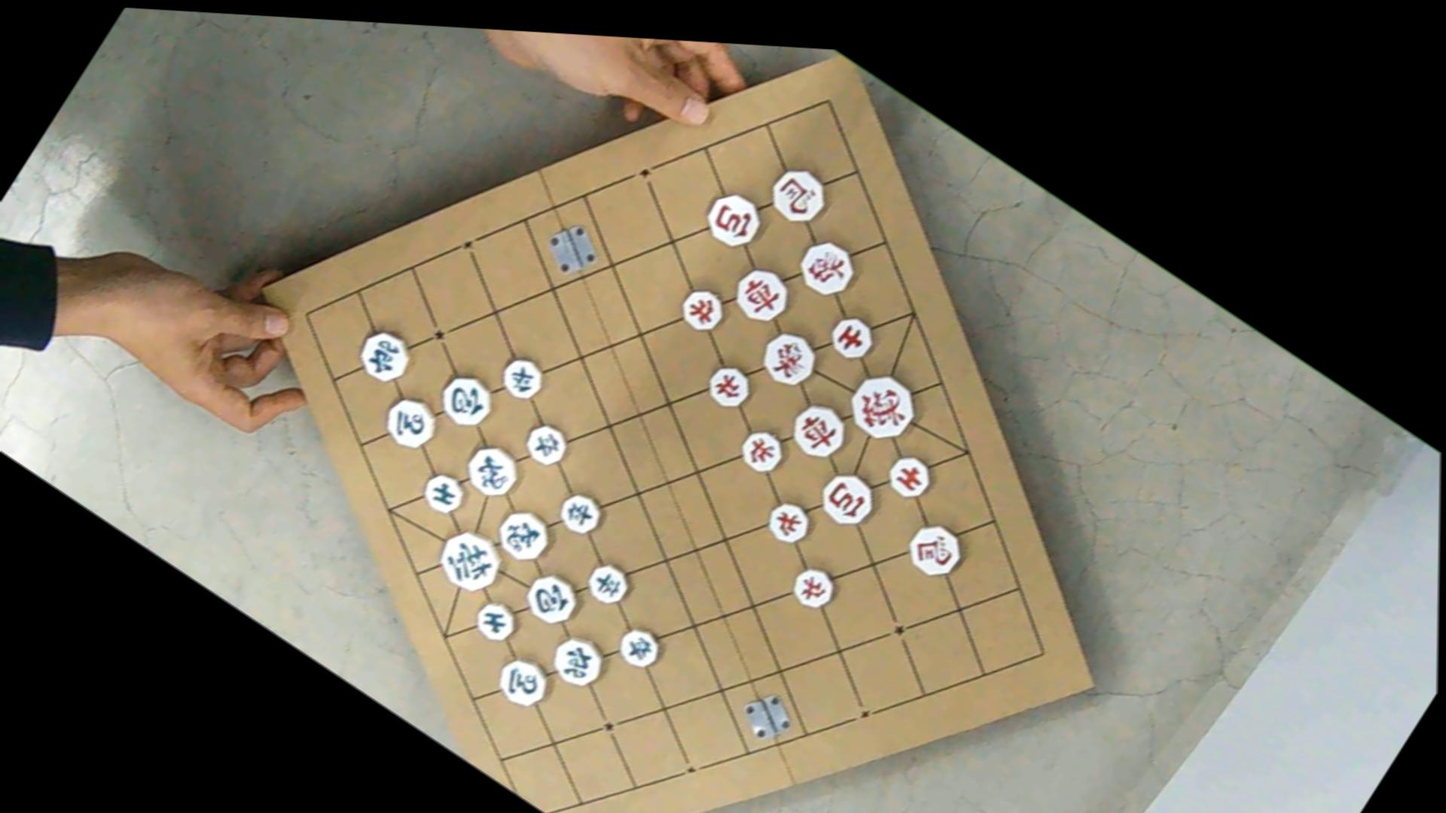cha_green: (545, 627, 612, 696), (350, 321, 417, 390)
cha_red: (783, 393, 855, 467), (725, 257, 797, 331)
jol_green: (495, 349, 549, 406), (613, 620, 667, 674), (554, 486, 607, 540), (581, 556, 634, 610), (519, 417, 572, 471)
jol_red: (674, 280, 731, 339), (701, 358, 758, 416), (760, 493, 817, 551), (734, 422, 789, 480), (786, 559, 841, 617)
ma_green: (376, 387, 444, 457), (491, 648, 556, 714)
ma_red: (761, 157, 834, 232), (899, 513, 969, 586)
po_green: (432, 365, 499, 434), (519, 565, 584, 632)
po_red: (697, 182, 768, 255), (813, 464, 882, 534)
sa_green: (416, 465, 468, 519), (468, 595, 520, 648)
sa_red: (881, 448, 937, 505), (824, 309, 879, 366)
sang_green: (458, 437, 525, 506), (490, 501, 557, 569)
sang_red: (753, 321, 825, 394), (792, 232, 862, 304)
wang_green: (430, 520, 509, 601)
wang_red: (840, 362, 925, 451)
